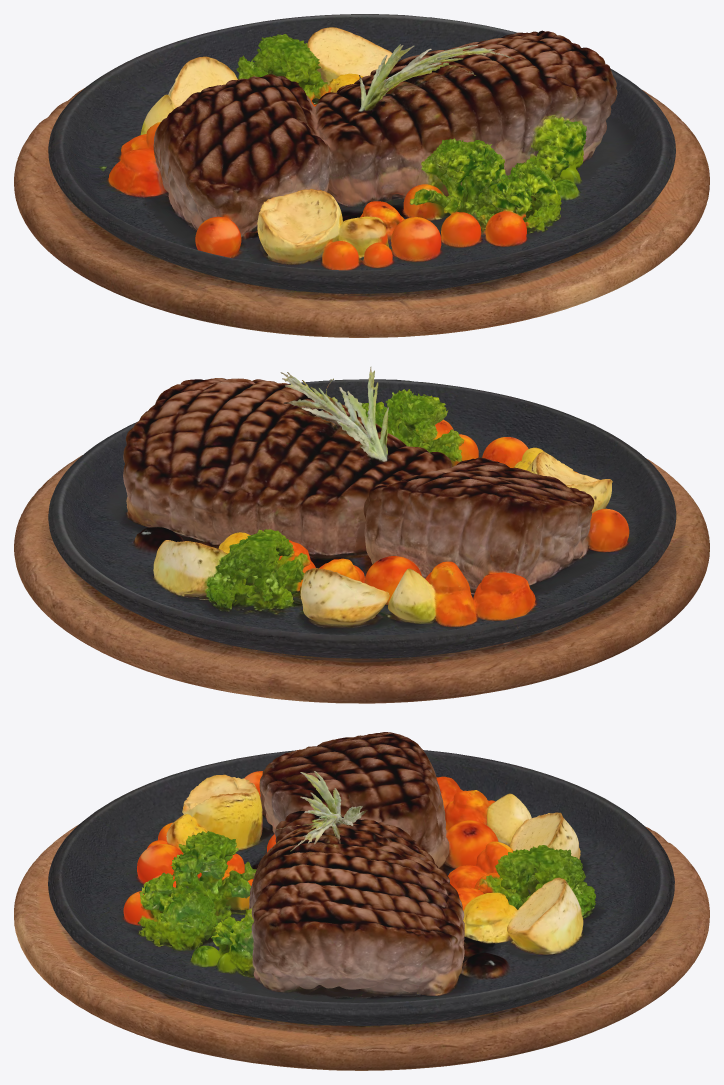
Rendered from steak.glb.
The picture shows the model from 3 angles, top to bottom: view 1: azimuth 30°, elevation 25°; view 2: azimuth 150°, elevation 25°; view 3: azimuth 270°, elevation 25°; orthographic projection.
Size of the model in its own units: 1.9 by 0.5199 by 1.9.
Materials: 1 (1 with a texture image).
